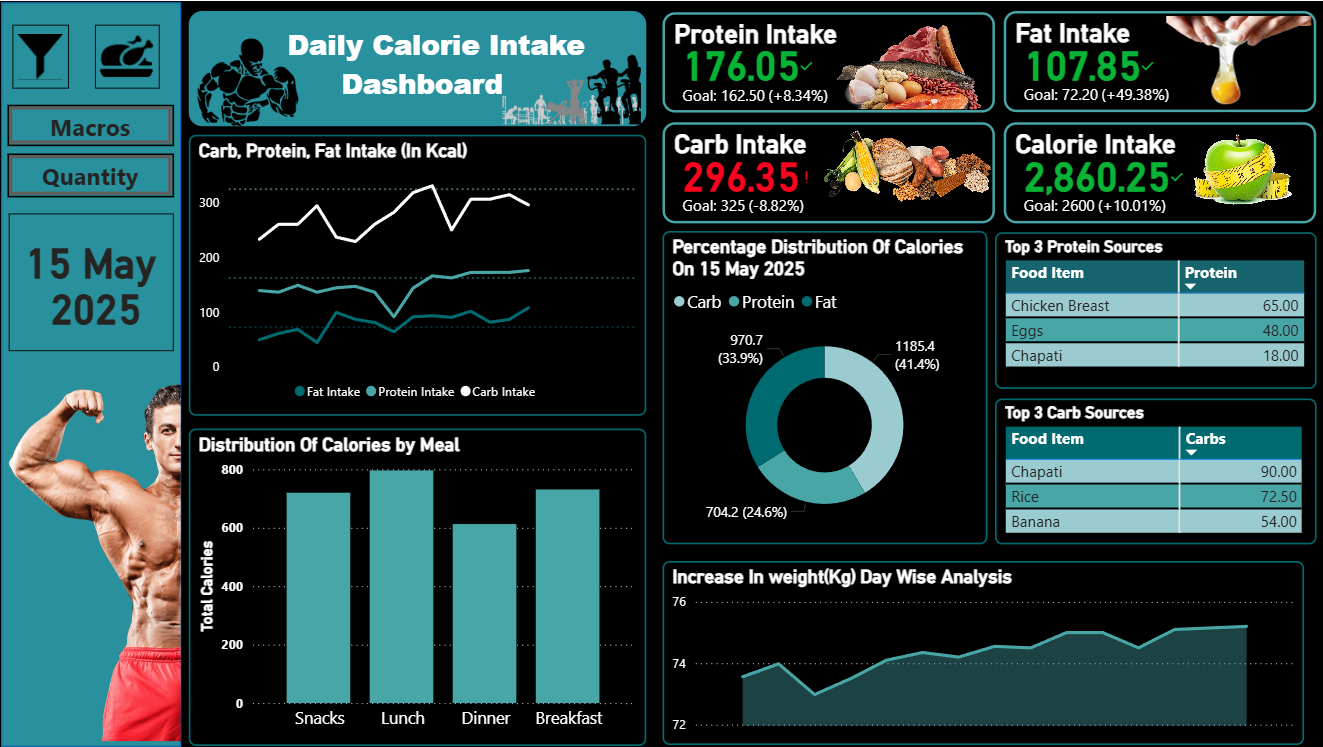

The page's visual inventory and layout, read from the dashboard file:
{"tool":"powerbi","page":{"name":"Dashboard","canvas":[1280,720],"ordinal":0},"visuals":[{"type":"textbox","box":[73.6,9.7,445.2,97.7],"z":0},{"type":"image","box":[84.5,16.9,89.3,85.7],"z":1000},{"type":"kpi","title":"Protein Intake","fields":{"Indicator":["All_measure.Protein_Intake"],"Goal":["All_measure.Target_Protein"],"TrendLine":["Weight.Date.Variation.Date Hierarchy.Year"]},"box":[529.6,10.4,182,97.6],"z":2000},{"type":"kpi","title":"Carb Intake","fields":{"Indicator":["All_measure.Carb_Intake"],"Goal":["All_measure.Target_Carbs"],"TrendLine":["Weight.Date.Variation.Date Hierarchy.Year"]},"box":[721.4,9.7,172.5,97.7],"z":3000},{"type":"kpi","title":"Fat Intake ","fields":{"Indicator":["All_measure.Fat_Intake"],"Goal":["All_measure.Target_Fats"],"TrendLine":["Weight.Date.Variation.Date Hierarchy.Year"]},"box":[904.1,9.7,171.2,97.8],"z":4000},{"type":"donutChart","fields":{"Y":["All_measure.Carb_calories","All_measure.Protein_Calories","All_measure.Fat_Calories"]},"box":[950.7,120.6,317.3,302.8],"z":5000},{"type":"lineChart","title":"Carb, Protein, Fat Intake (In Kcal) ","fields":{"Y":["All_measure.Fat_Intake","All_measure.Protein_Intake","All_measure.Carb_Intake"],"Category":["Weight.Date.Variation.Date Hierarchy.Year","Weight.Date.Variation.Date Hierarchy.Month","Weight.Date.Variation.Date Hierarchy.Day"]},"box":[72.5,121.3,501.5,290],"z":6000},{"type":"areaChart","title":"Increase In weight(Kg) Day Wise Analysis","fields":{"Category":["Weight.Date.Variation.Date Hierarchy.Day"],"Y":["Sum(Weight.Weight)"]},"box":[951.1,436.1,316.9,272],"z":7000},{"type":"kpi","title":"Calorie Intake","fields":{"TrendLine":["Weight.Date.Variation.Date Hierarchy.Year"],"Indicator":["All_measure.Calorie_Intake"],"Goal":["All_measure.Target Calories"]},"box":[1085.6,9.7,194.4,97.8],"z":8000},{"type":"tableEx","title":"Top 3 Carb Sources","fields":{"Values":["Food_Log.Food_Item","Sum(Food_Log.Carbs)"]},"box":[583.3,326,357.6,190.7],"z":9000},{"type":"shape","box":[0,0,53.8,720.2],"z":10000},{"type":"tableEx","title":"Top 3 Protein Sources","fields":{"Values":["Food_Log.Food_Item","Sum(Food_Log.Protein)"]},"box":[583.3,120.6,357.6,187.9],"z":11000},{"type":"columnChart","title":"Distribution Of Calories by Meal","fields":{"Category":["Food_Log.Meal_Type"],"Y":["Sum(Food_Log.Calories)"]},"box":[72.9,423.5,500.6,284.7],"z":12000},{"type":"actionButton","box":[0,16.5,54.4,49.4],"z":13000},{"type":"actionButton","box":[0,190.3,49.2,49.2],"z":13500},{"type":"actionButton","box":[0,85.8,54.7,76.9],"z":14000},{"type":"tableEx","title":"Top 3 Fat Sources","fields":{"Values":["Food_Log.Food_Item","Sum(Food_Log.Fats)"]},"box":[583.3,534.3,357.6,173.9],"z":15000},{"type":"actionButton","box":[529.8,423.2,47.6,39.4],"z":17000},{"type":"image","box":[402.1,0,138.2,124.4],"z":18000}]}

Visuals, with their boxes in screenshot pixels (x1, y1, x2, y2), scaled from the page's 1280x720 canvas onto the 1323x747 screenshot:
textbox: [76,10,536,111]
image: [87,18,180,106]
"Protein Intake" kpi: [547,11,736,112]
"Carb Intake" kpi: [746,10,924,111]
"Fat Intake " kpi: [934,10,1111,112]
donutChart - All_measure.Carb_calories x All_measure.Protein_Calories: [983,125,1311,439]
"Carb, Protein, Fat Intake (In Kcal) " lineChart: [75,126,593,427]
"Increase In weight(Kg) Day Wise Analysis" areaChart: [983,452,1311,735]
"Calorie Intake" kpi: [1122,10,1322,112]
"Top 3 Carb Sources" tableEx: [603,338,973,536]
shape: [0,0,56,746]
"Top 3 Protein Sources" tableEx: [603,125,973,320]
"Distribution Of Calories by Meal" columnChart: [75,439,593,735]
actionButton: [0,17,56,68]
actionButton: [0,197,51,248]
actionButton: [0,89,57,169]
"Top 3 Fat Sources" tableEx: [603,554,973,735]
actionButton: [548,439,597,480]
image: [416,0,558,129]
